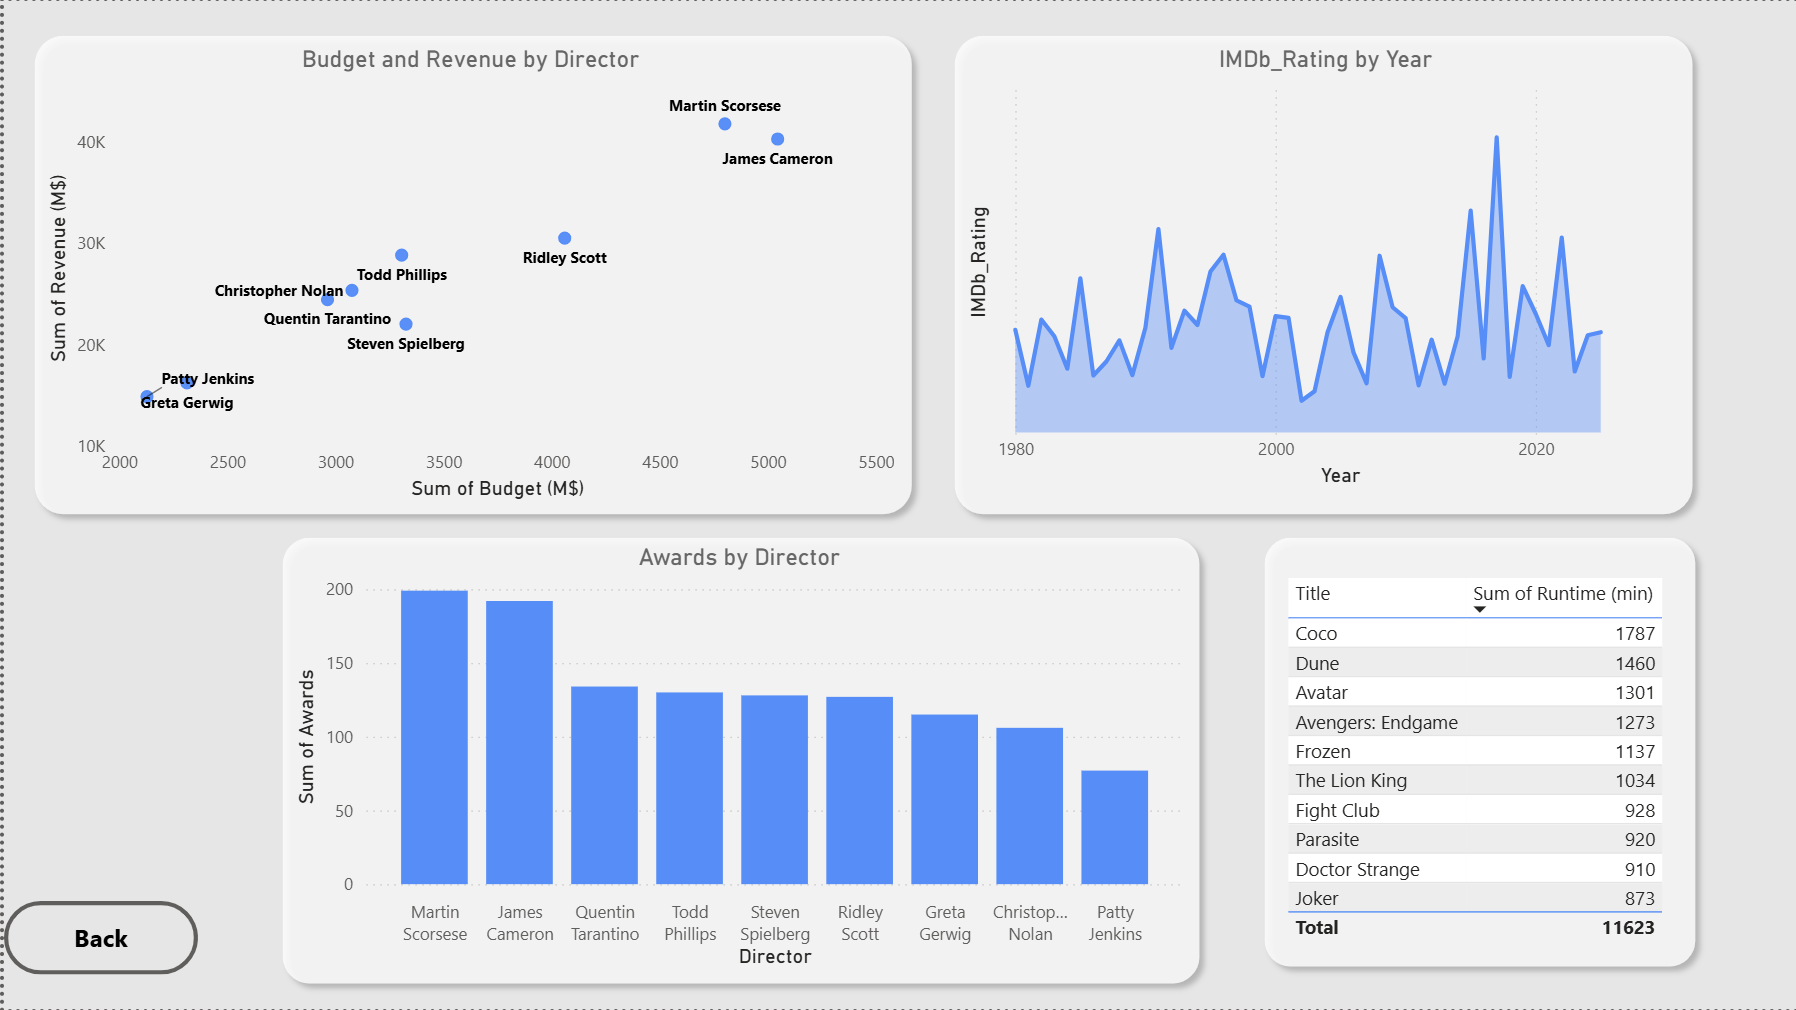

This screenshot's page, from the dashboard's own definition file:
{"tool":"powerbi","page":{"name":"Detailed analysis","canvas":[1280,720],"ordinal":1},"visuals":[{"type":"shape","box":[890.9,374.1,325.7,324.3],"z":0},{"type":"shape","box":[12.2,15.3,644.6,359.8],"z":1000},{"type":"shape","box":[670.6,15.3,545.1,359.8],"z":2000},{"type":"scatterChart","title":"Budget and Revenue by Director","fields":{"X":["Movies.Budget (M$)"],"Y":["Movies.Revenue (M$)"],"Category":["Movies.Director"]},"box":[25.6,31,615,329.7],"z":3000},{"type":"tableEx","fields":{"Values":["Movies.Title","Movies.Runtime (min)"]},"box":[911.1,406.4,284,271.9],"z":4000},{"type":"areaChart","title":"IMDb_Rating by Year","fields":{"Category":["Movies.Year"],"Y":["Movies.IMDb_Rating"]},"box":[682.3,31,522.2,320.3],"z":5000},{"type":"shape","box":[189.8,374.1,672.9,336.4],"z":6000},{"type":"columnChart","title":"Awards by Director","fields":{"Category":["Movies.Director"],"Y":["Movies.Awards"]},"box":[203.2,387.6,644.6,308.2],"z":7000},{"type":"actionButton","box":[0,643.3,138.6,52.5],"z":7001}]}

Visuals, with their boxes in screenshot pixels (x1, y1, x2, y2), scaled from the page's 1280x720 canvas onto the 1796x1010 screenshot:
shape: crop(1250, 525, 1707, 980)
shape: crop(17, 21, 922, 526)
shape: crop(941, 21, 1706, 526)
"Budget and Revenue by Director" scatterChart: crop(36, 43, 899, 506)
tableEx - Movies.Title x Movies.Runtime (min): crop(1278, 570, 1677, 952)
"IMDb_Rating by Year" areaChart: crop(957, 43, 1690, 493)
shape: crop(266, 525, 1210, 997)
"Awards by Director" columnChart: crop(285, 544, 1190, 976)
actionButton: crop(0, 902, 194, 976)
